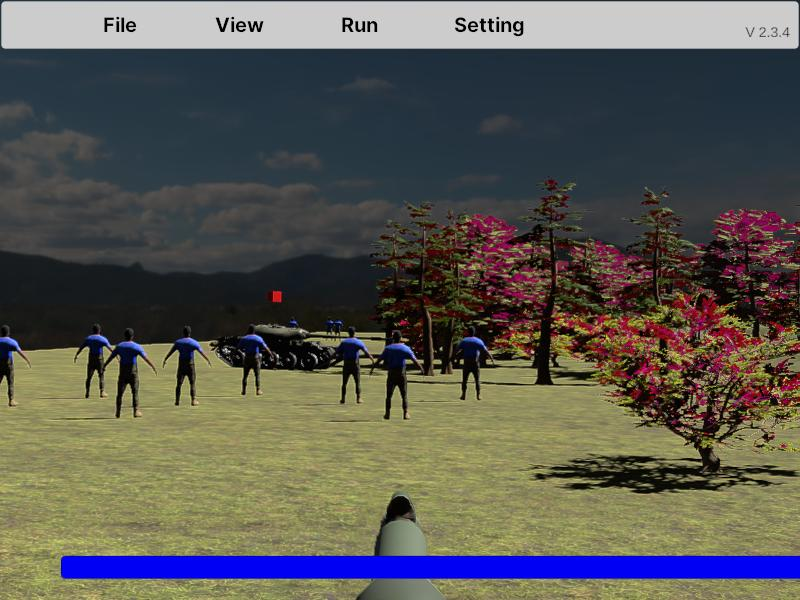Human: (100, 327, 157, 419), (370, 329, 424, 421), (162, 325, 211, 407), (450, 326, 495, 401), (332, 326, 375, 404), (451, 326, 495, 401), (75, 323, 118, 399), (233, 324, 274, 396), (0, 324, 32, 407)
Tank: (214, 323, 393, 372)
